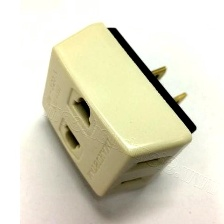three_eye_plug: (40, 18, 200, 204)
